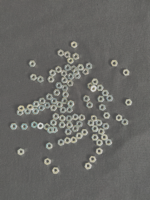nut: (52, 168, 60, 175), (85, 163, 93, 170), (44, 158, 51, 166), (18, 148, 25, 156), (81, 129, 89, 136), (105, 139, 113, 146), (102, 123, 110, 130), (91, 115, 98, 123), (66, 122, 74, 129), (67, 101, 75, 108), (61, 85, 69, 92), (106, 95, 114, 102), (90, 85, 97, 93), (111, 60, 119, 67), (77, 64, 85, 71), (64, 51, 71, 59), (71, 41, 78, 49), (46, 143, 53, 150), (96, 148, 103, 155), (64, 138, 71, 145), (76, 133, 83, 140), (97, 140, 104, 147), (101, 134, 108, 141), (98, 129, 105, 136), (92, 126, 99, 133), (96, 120, 103, 127), (88, 120, 95, 127), (31, 122, 38, 129), (37, 123, 44, 130), (47, 127, 54, 134), (51, 127, 58, 134), (65, 129, 72, 136), (72, 126, 79, 133), (76, 121, 83, 128), (59, 122, 66, 129), (50, 120, 57, 127), (53, 113, 60, 120), (59, 115, 66, 122), (72, 114, 79, 121), (79, 115, 86, 122), (116, 115, 123, 122), (122, 119, 129, 126), (32, 108, 39, 115), (38, 105, 45, 112), (33, 101, 40, 108), (39, 98, 46, 105), (50, 105, 57, 112), (51, 98, 58, 105), (46, 94, 53, 101), (99, 104, 106, 111), (98, 96, 105, 103), (102, 90, 109, 97), (97, 85, 104, 92), (67, 80, 74, 87), (123, 69, 130, 76), (37, 76, 44, 83), (30, 74, 37, 81), (29, 61, 36, 68), (49, 70, 56, 77), (55, 67, 62, 74), (68, 73, 75, 80), (61, 70, 68, 77), (73, 69, 80, 76), (71, 66, 78, 73), (86, 63, 93, 70), (89, 157, 97, 163), (58, 139, 64, 147), (10, 124, 18, 130), (125, 100, 133, 106), (71, 137, 77, 144), (92, 135, 99, 141), (21, 124, 28, 130), (44, 124, 50, 131), (66, 116, 73, 122), (104, 113, 111, 119), (17, 110, 24, 116), (18, 106, 25, 112), (24, 109, 31, 115), (27, 105, 34, 111), (44, 103, 51, 109), (60, 107, 66, 114), (67, 107, 73, 114), (56, 102, 63, 108), (61, 98, 68, 104), (62, 92, 69, 98), (54, 90, 61, 96), (56, 83, 63, 89), (87, 102, 93, 109), (83, 96, 90, 102), (92, 79, 99, 85), (48, 77, 55, 83), (62, 77, 68, 84), (65, 65, 71, 72), (74, 73, 81, 79), (83, 69, 89, 76), (67, 58, 74, 64), (73, 53, 79, 60), (58, 50, 64, 57), (88, 83, 94, 89)
